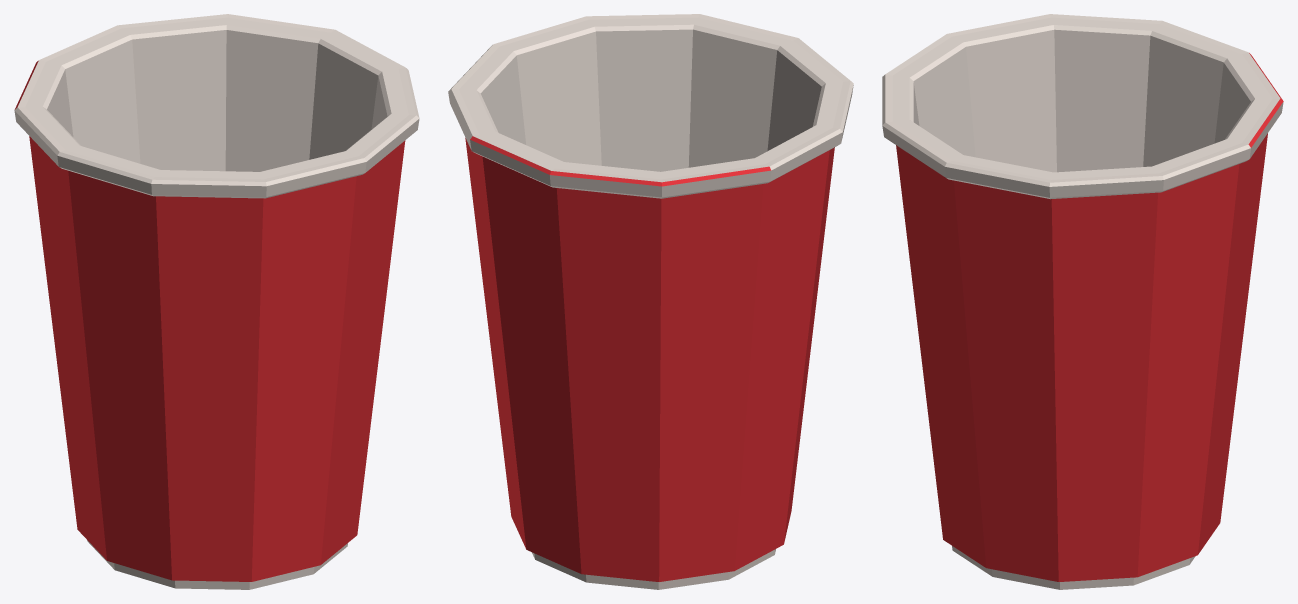
File: cupFINAL.fbx
The picture shows the model from 3 angles, left to right: view 1: azimuth 30°, elevation 25°; view 2: azimuth 150°, elevation 25°; view 3: azimuth 270°, elevation 25°; orthographic projection.
Visible parts, largest first — view 1: Cup; view 2: Cup; view 3: Cup.
Boxes of the visible parts, x1,y1,x2,y2 form: Cup: (14,14,419,589); Cup: (448,14,853,589); Cup: (882,14,1283,589).
Size of the model in its own units: 70.44 by 83.68 by 69.72.
